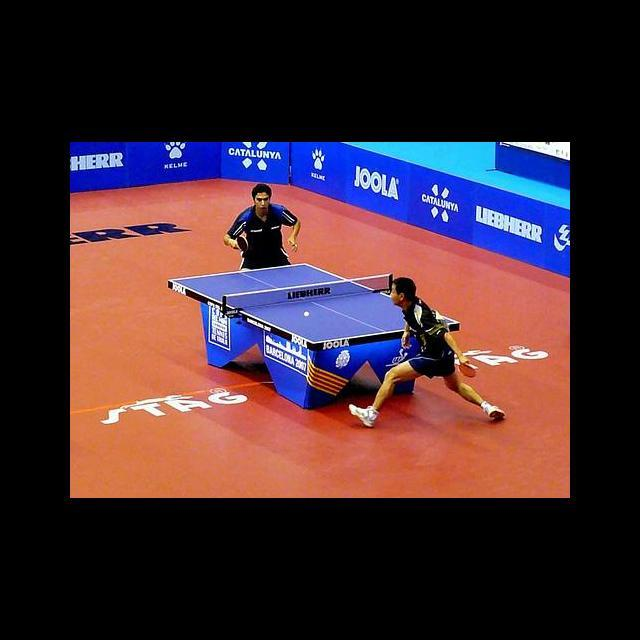ping-pong-ball: (303, 310, 310, 318)
